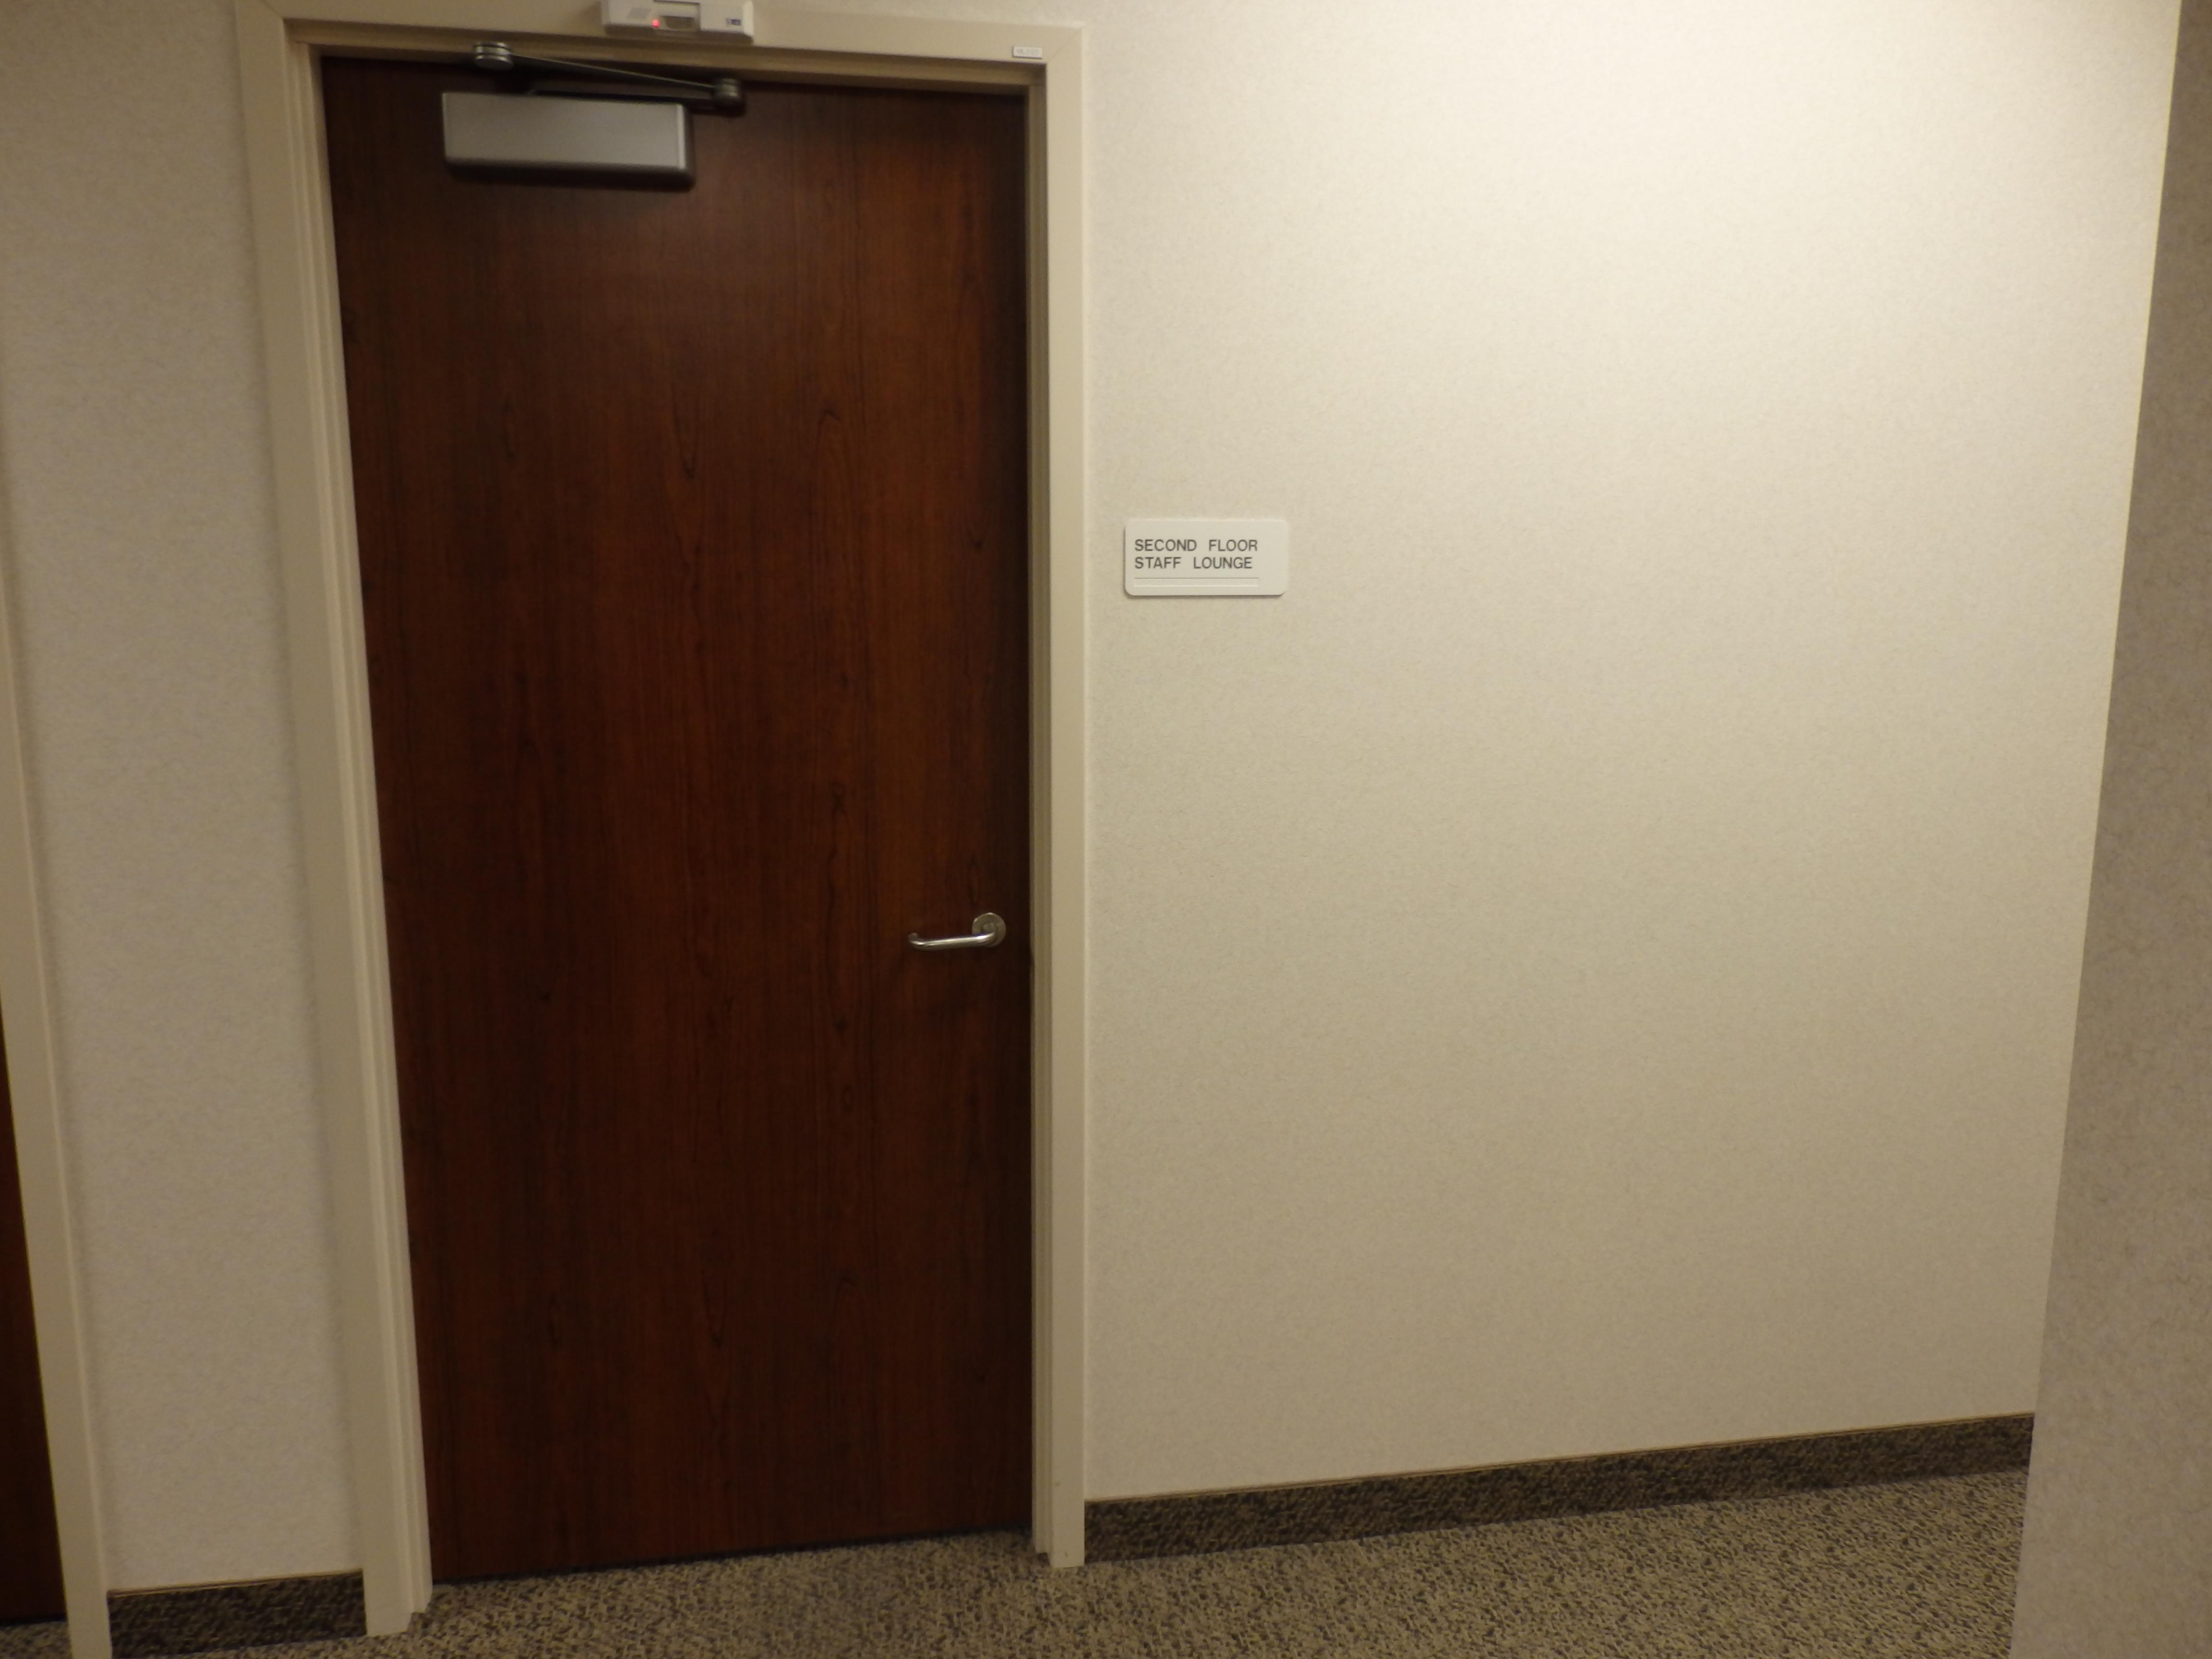door: (293, 26, 1061, 1588)
